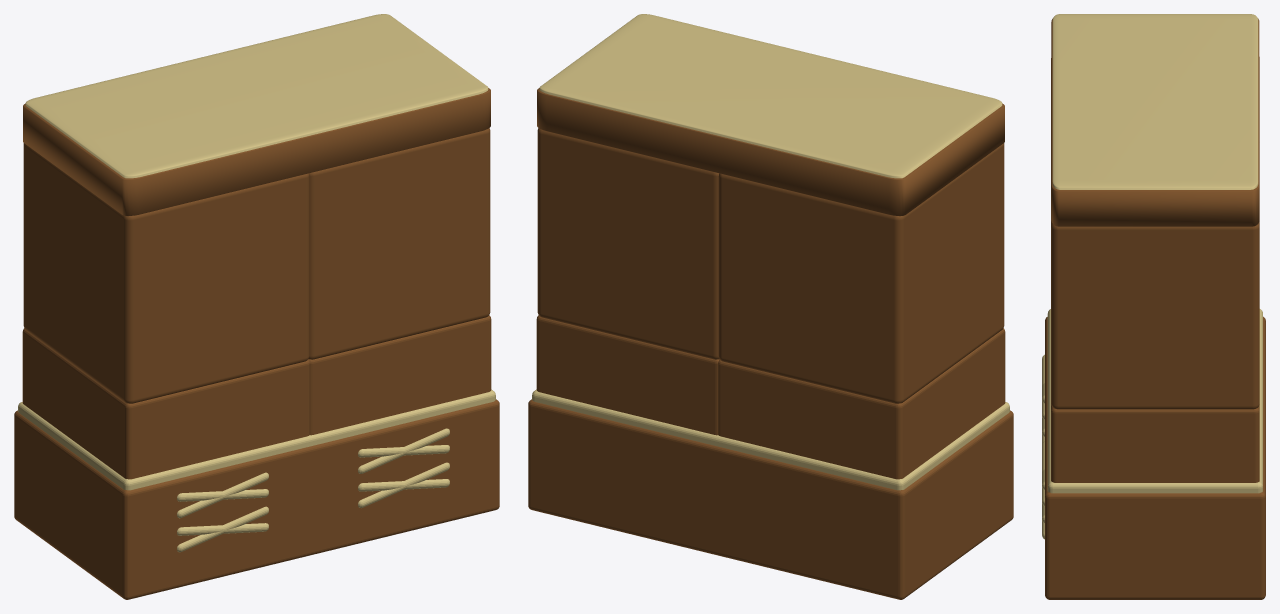
Rendered from PaddedPantsWhole.fbx.
The picture shows the model from 3 angles, left to right: view 1: azimuth 30°, elevation 25°; view 2: azimuth 150°, elevation 25°; view 3: azimuth 270°, elevation 25°; orthographic projection. The views are drawn at different scales.
Parts seen in each view (by area): view 1: Upper Right Leg, Waist, Upper Right Leg.001, Upper Right Leg.002, Upper Right Leg.003; view 2: Upper Right Leg, Waist, Upper Right Leg.001, Upper Right Leg.002, Upper Right Leg.003; view 3: Waist, Upper Right Leg.002, Upper Right Leg.003, Upper Right Leg.
Boxes of the visible parts, x1=… form: Upper Right Leg: x1=14, y1=328, x2=316, y2=599; Waist: x1=23, y1=14, x2=490, y2=216; Upper Right Leg.001: x1=23, y1=143, x2=309, y2=403; Upper Right Leg.002: x1=308, y1=315, x2=499, y2=555; Upper Right Leg.003: x1=308, y1=128, x2=490, y2=359; Upper Right Leg: x1=711, y1=328, x2=1013, y2=599; Waist: x1=537, y1=14, x2=1004, y2=216; Upper Right Leg.001: x1=718, y1=143, x2=1004, y2=403; Upper Right Leg.002: x1=528, y1=315, x2=719, y2=554; Upper Right Leg.003: x1=537, y1=128, x2=719, y2=359; Waist: x1=1051, y1=14, x2=1259, y2=226; Upper Right Leg.002: x1=1042, y1=396, x2=1265, y2=599; Upper Right Leg.003: x1=1051, y1=143, x2=1259, y2=409; Upper Right Leg: x1=1042, y1=309, x2=1265, y2=444.
Size of the model in its own units: 208 by 222 by 109.
